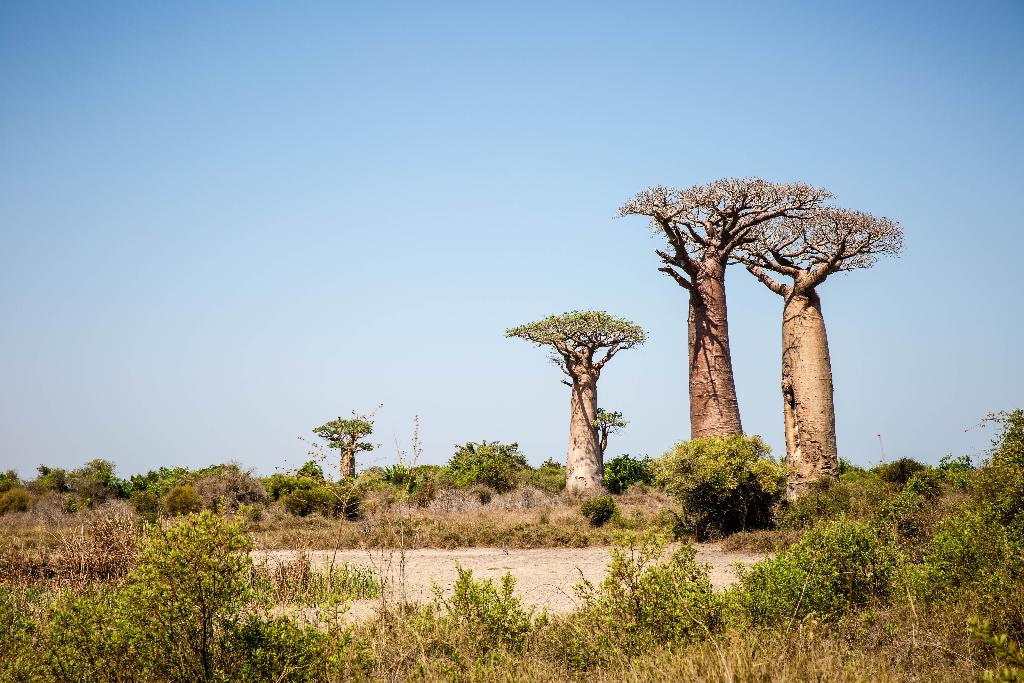Tree: (612, 171, 839, 439), (743, 207, 907, 505), (505, 306, 647, 497), (311, 417, 370, 482)
